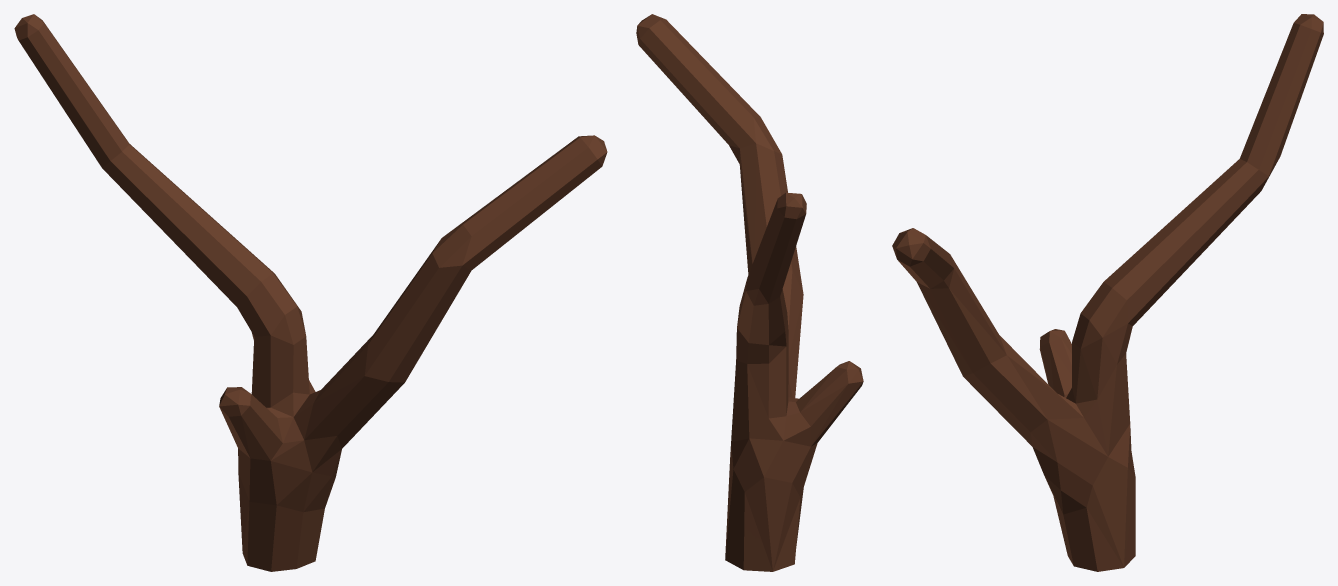
The model's file is 2Stad.fbx.
The picture shows the model from 3 angles, left to right: view 1: azimuth 30°, elevation 25°; view 2: azimuth 150°, elevation 25°; view 3: azimuth 270°, elevation 25°; orthographic projection. The views are drawn at different scales.
Visible parts, largest first — view 1: Cube.033; view 2: Cube.033; view 3: Cube.033.
Part boxes in pixels (<box>): Cube.033: <box>14,14,607,571</box>; Cube.033: <box>636,14,863,571</box>; Cube.033: <box>892,14,1323,571</box>.
Bounding box in the file's own units: 75.68 × 93.55 × 77.
